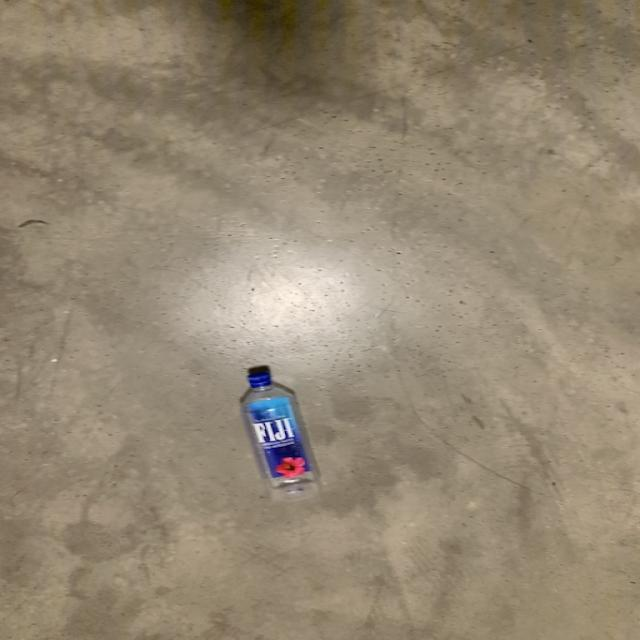Waste: (240, 366, 320, 502)
